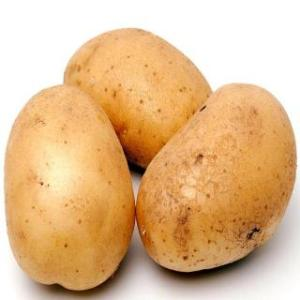potato: (136, 84, 296, 274), (6, 84, 134, 290), (64, 29, 214, 169)
